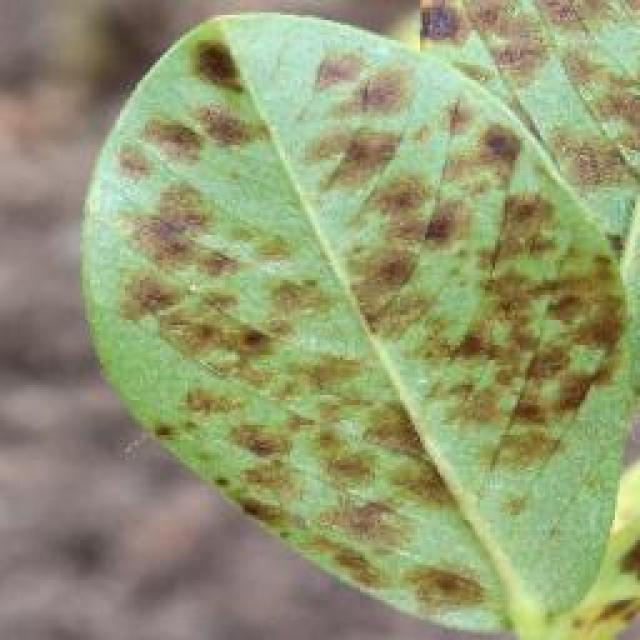Whitefly: (60, 0, 640, 609)
